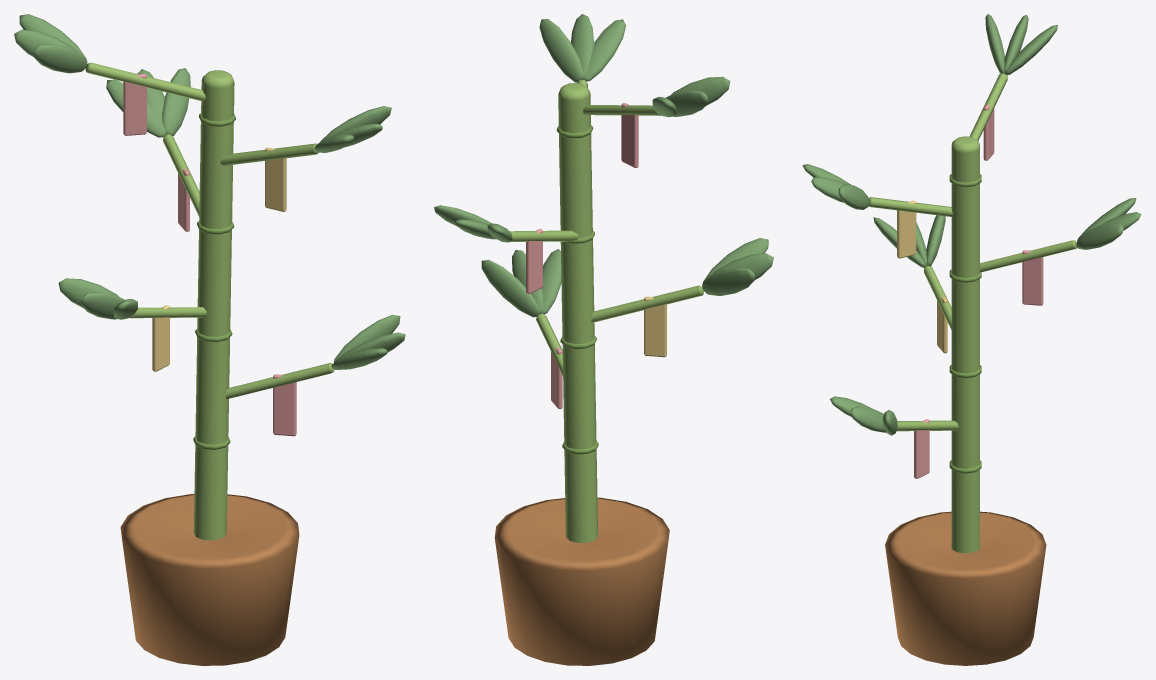
The model's file is wish_bamboo.glb.
3 views of the same model, side by side, from view 1: azimuth 30°, elevation 25°; view 2: azimuth 150°, elevation 25°; view 3: azimuth 270°, elevation 25° (orthographic). The views are drawn at different scales.
Parts seen in each view (by area): view 1: wish_bamboo_mesh; view 2: wish_bamboo_mesh; view 3: wish_bamboo_mesh.
Boxes of the visible parts, left/top/right/bottom form: wish_bamboo_mesh: left=14, top=14, right=405, bottom=665; wish_bamboo_mesh: left=434, top=14, right=773, bottom=665; wish_bamboo_mesh: left=802, top=14, right=1141, bottom=665.
Bounding box in the file's own units: 0.7569 × 1.44 × 0.7981.
